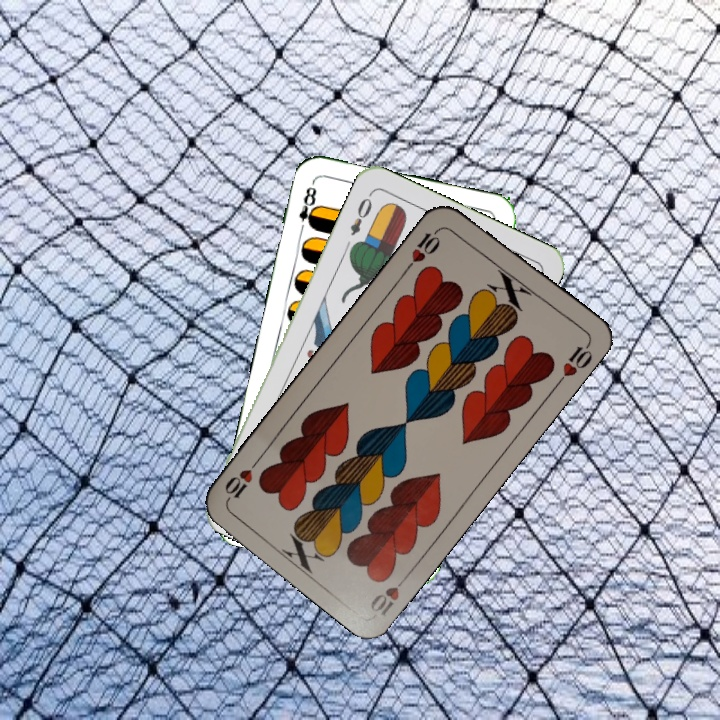E8: (295, 178, 321, 237)
EO: (346, 189, 375, 238)
H10: (366, 569, 413, 619), (402, 223, 445, 273)
